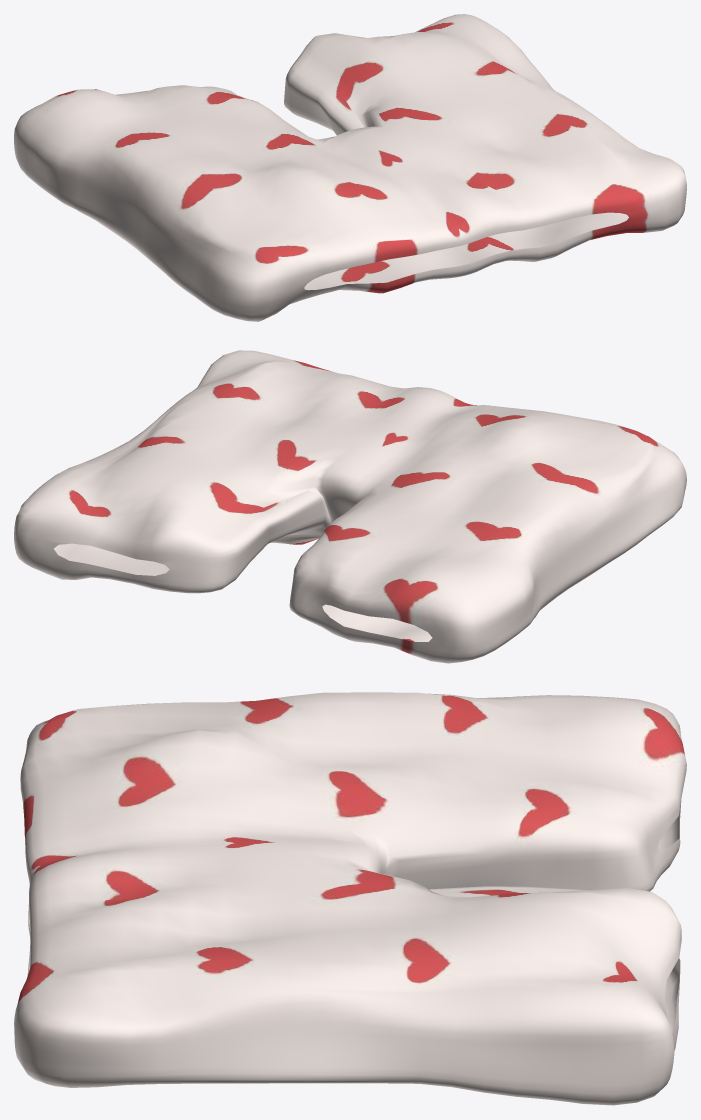
The model's file is short.fbx.
3 renders of one model, top to bottom at view 1: azimuth 30°, elevation 25°; view 2: azimuth 150°, elevation 25°; view 3: azimuth 270°, elevation 25°, orthographic. The views are drawn at different scales.
Visible parts, largest first — view 1: pPlane2; view 2: pPlane2; view 3: pPlane2.
Boxes of the visible parts, x1=… form: pPlane2: x1=14, y1=14, x2=686, y2=321; pPlane2: x1=14, y1=350, x2=686, y2=663; pPlane2: x1=14, y1=692, x2=686, y2=1105.
Size of the model in its own units: 61.99 by 13.62 by 53.87.
Materials: 1 (1 with a texture image).
